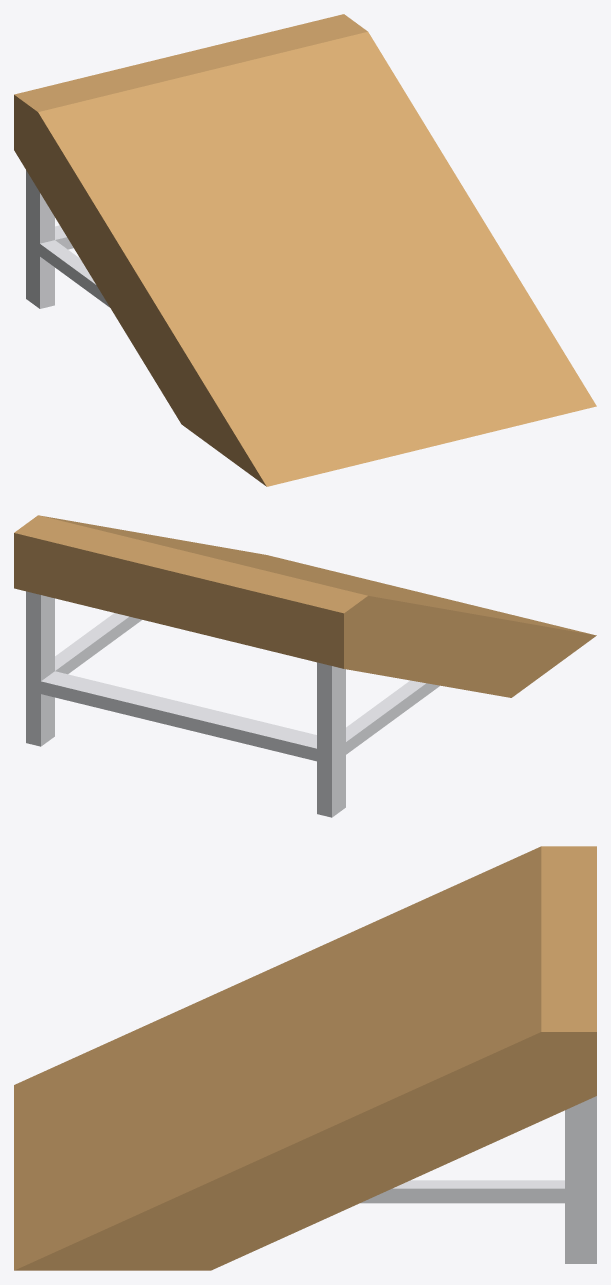
Rendered from ramp.glb.
3 renders of one model, top to bottom at view 1: azimuth 30°, elevation 25°; view 2: azimuth 150°, elevation 25°; view 3: azimuth 270°, elevation 25°, orthographic. The views are drawn at different scales.
Parts seen in each view (by area): view 1: ramp(Clone); view 2: ramp(Clone); view 3: ramp(Clone).
Boxes of the visible parts, left/top/right/bottom form: ramp(Clone): left=14, top=14, right=596, bottom=486; ramp(Clone): left=14, top=515, right=596, bottom=817; ramp(Clone): left=14, top=846, right=596, bottom=1270.
Bounding box in the file's own units: 0.55 × 0.33 × 0.73.
